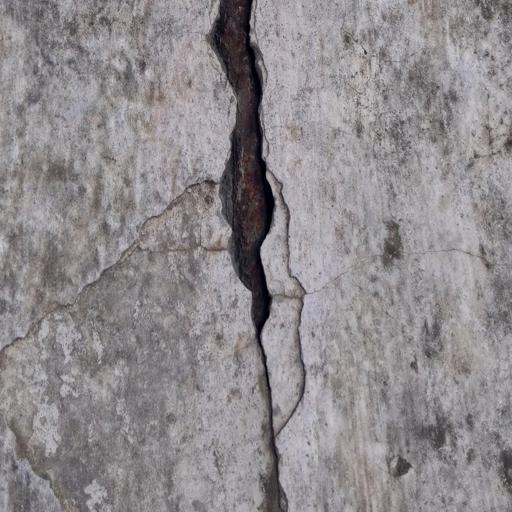spalling: (194, 0, 332, 512)
